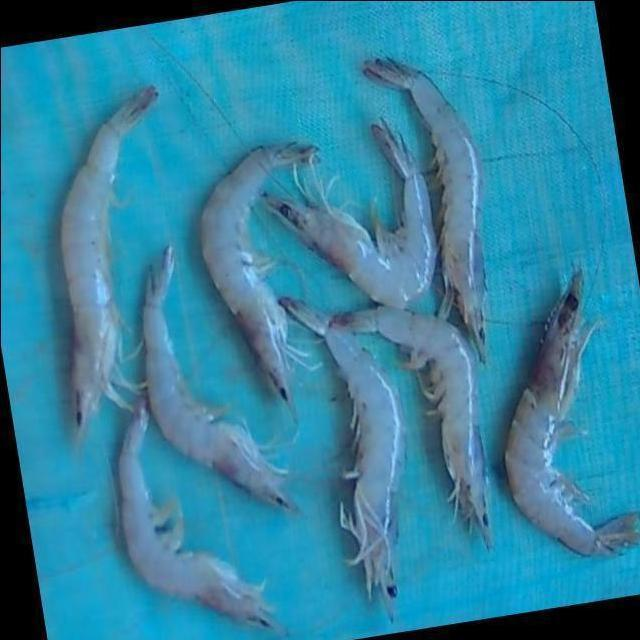shrimp: (280, 297, 404, 619), (142, 246, 294, 508), (504, 269, 640, 555), (330, 307, 490, 546), (363, 57, 486, 360), (117, 401, 277, 628), (59, 84, 157, 429), (263, 122, 437, 306), (200, 142, 316, 414)
